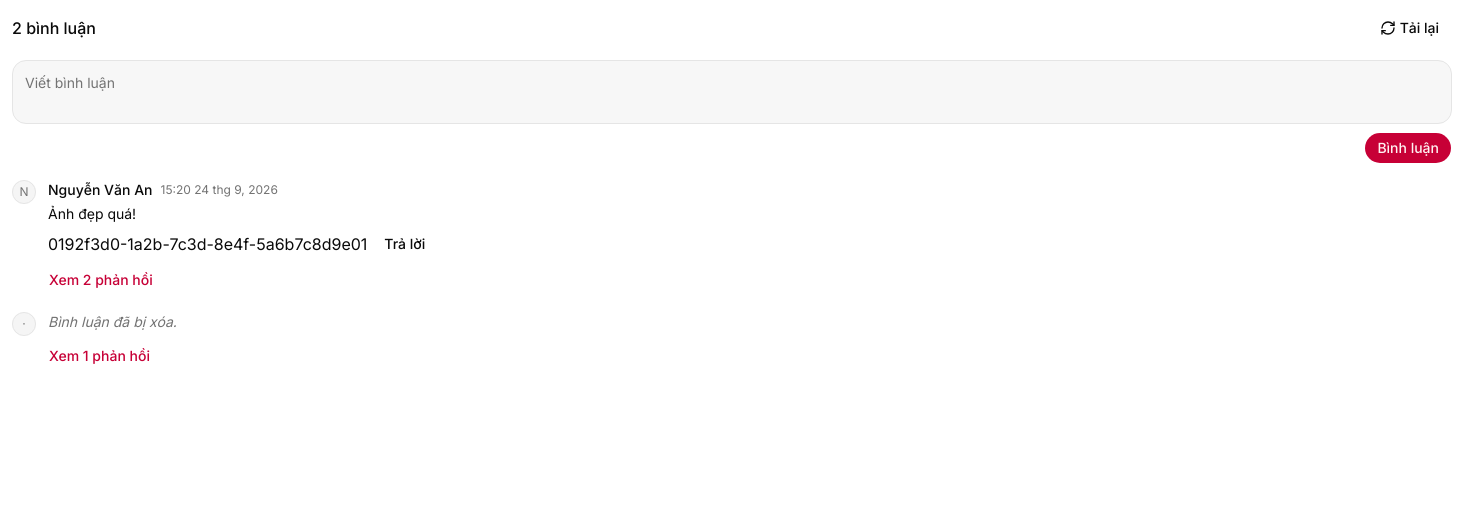
Test: CommentThread › 400 errors.parentId hiện DƯỚI ô trả lời, đúng câu server (Đ-E5)
The width and height of the screenshot is (1464, 521).
expect the number of list items with test id "comment" is 2: met, box 12,180 -> 438,296; 12,312 -> 177,372
Click the button "Trả lời": [405, 244] box 371,228 -> 438,260
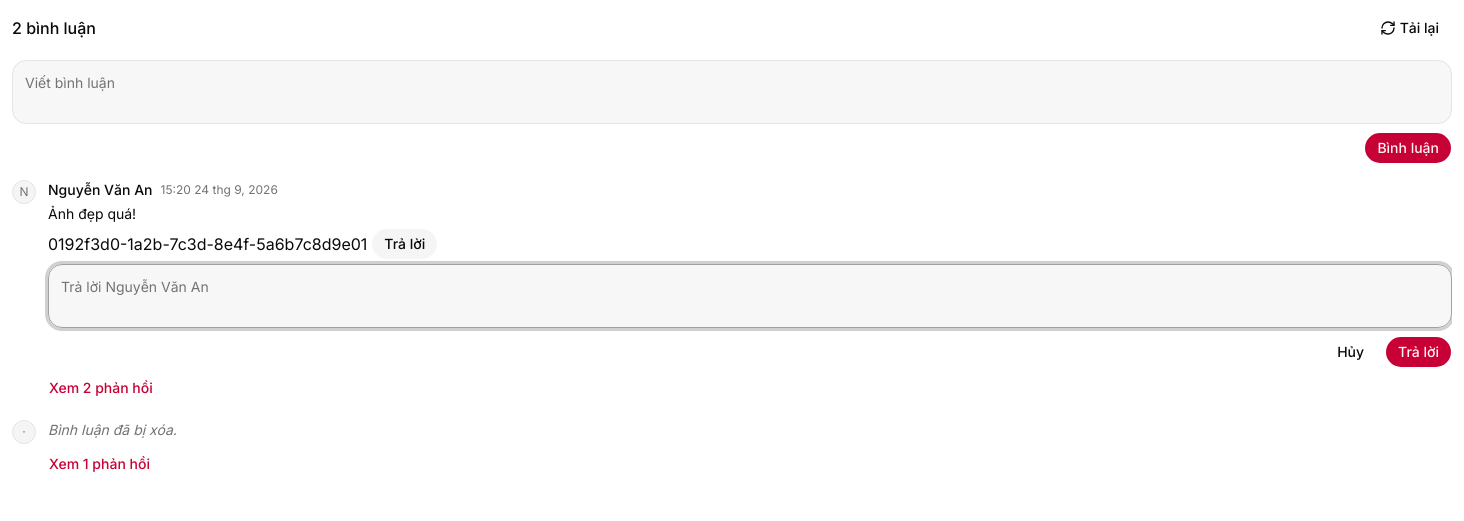
In the text box with placeholder "Trả lời Nguyễn Văn An": [750, 296] box 48,264 -> 1452,328, type "Muộn rồi"
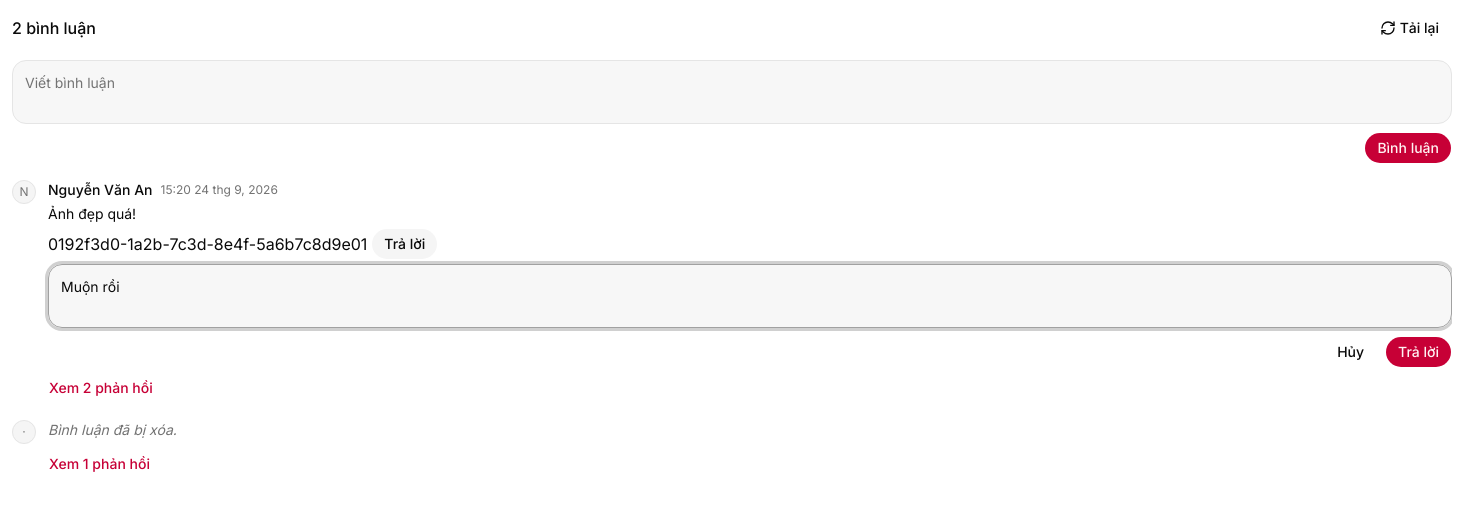
Click the 2nd button "Trả lời": [1419, 352] box 1385,336 -> 1452,368
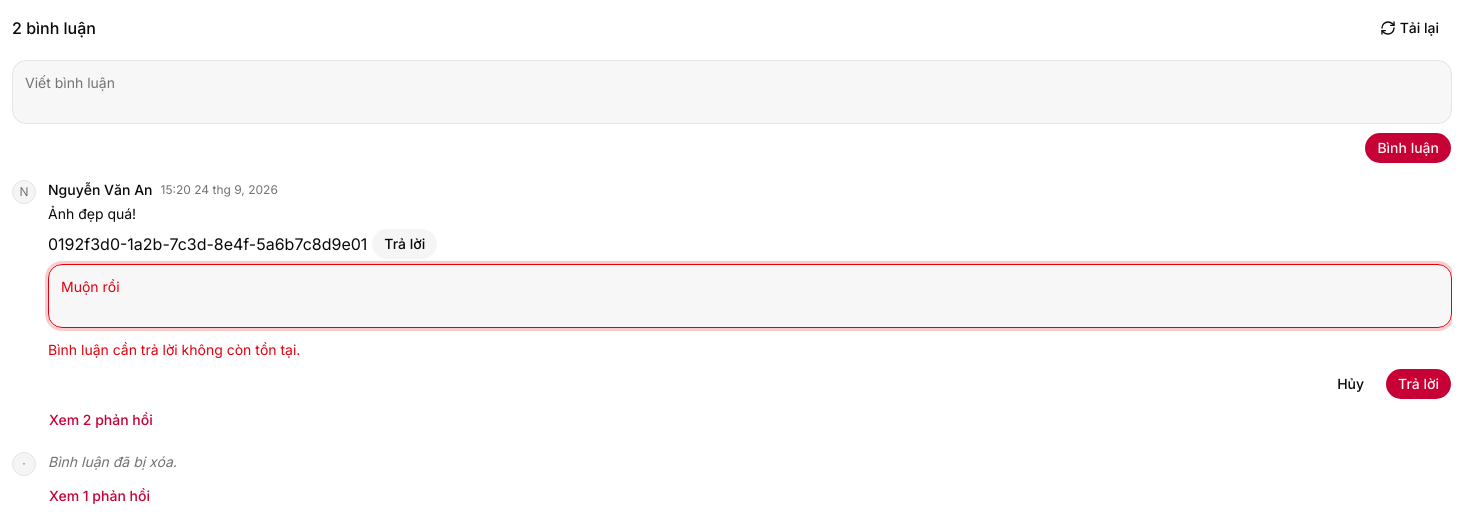
expect the text "Bình luận cần trả lời không còn tồn tại." is shown: met, box 48,341 -> 300,358
